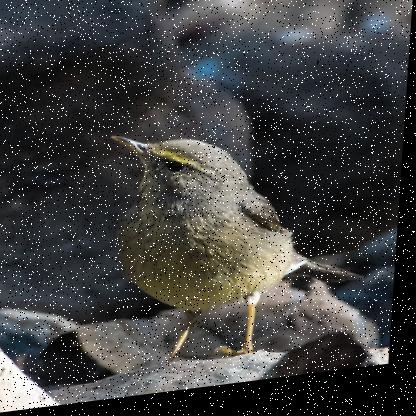Burung: (88, 109, 374, 378)
